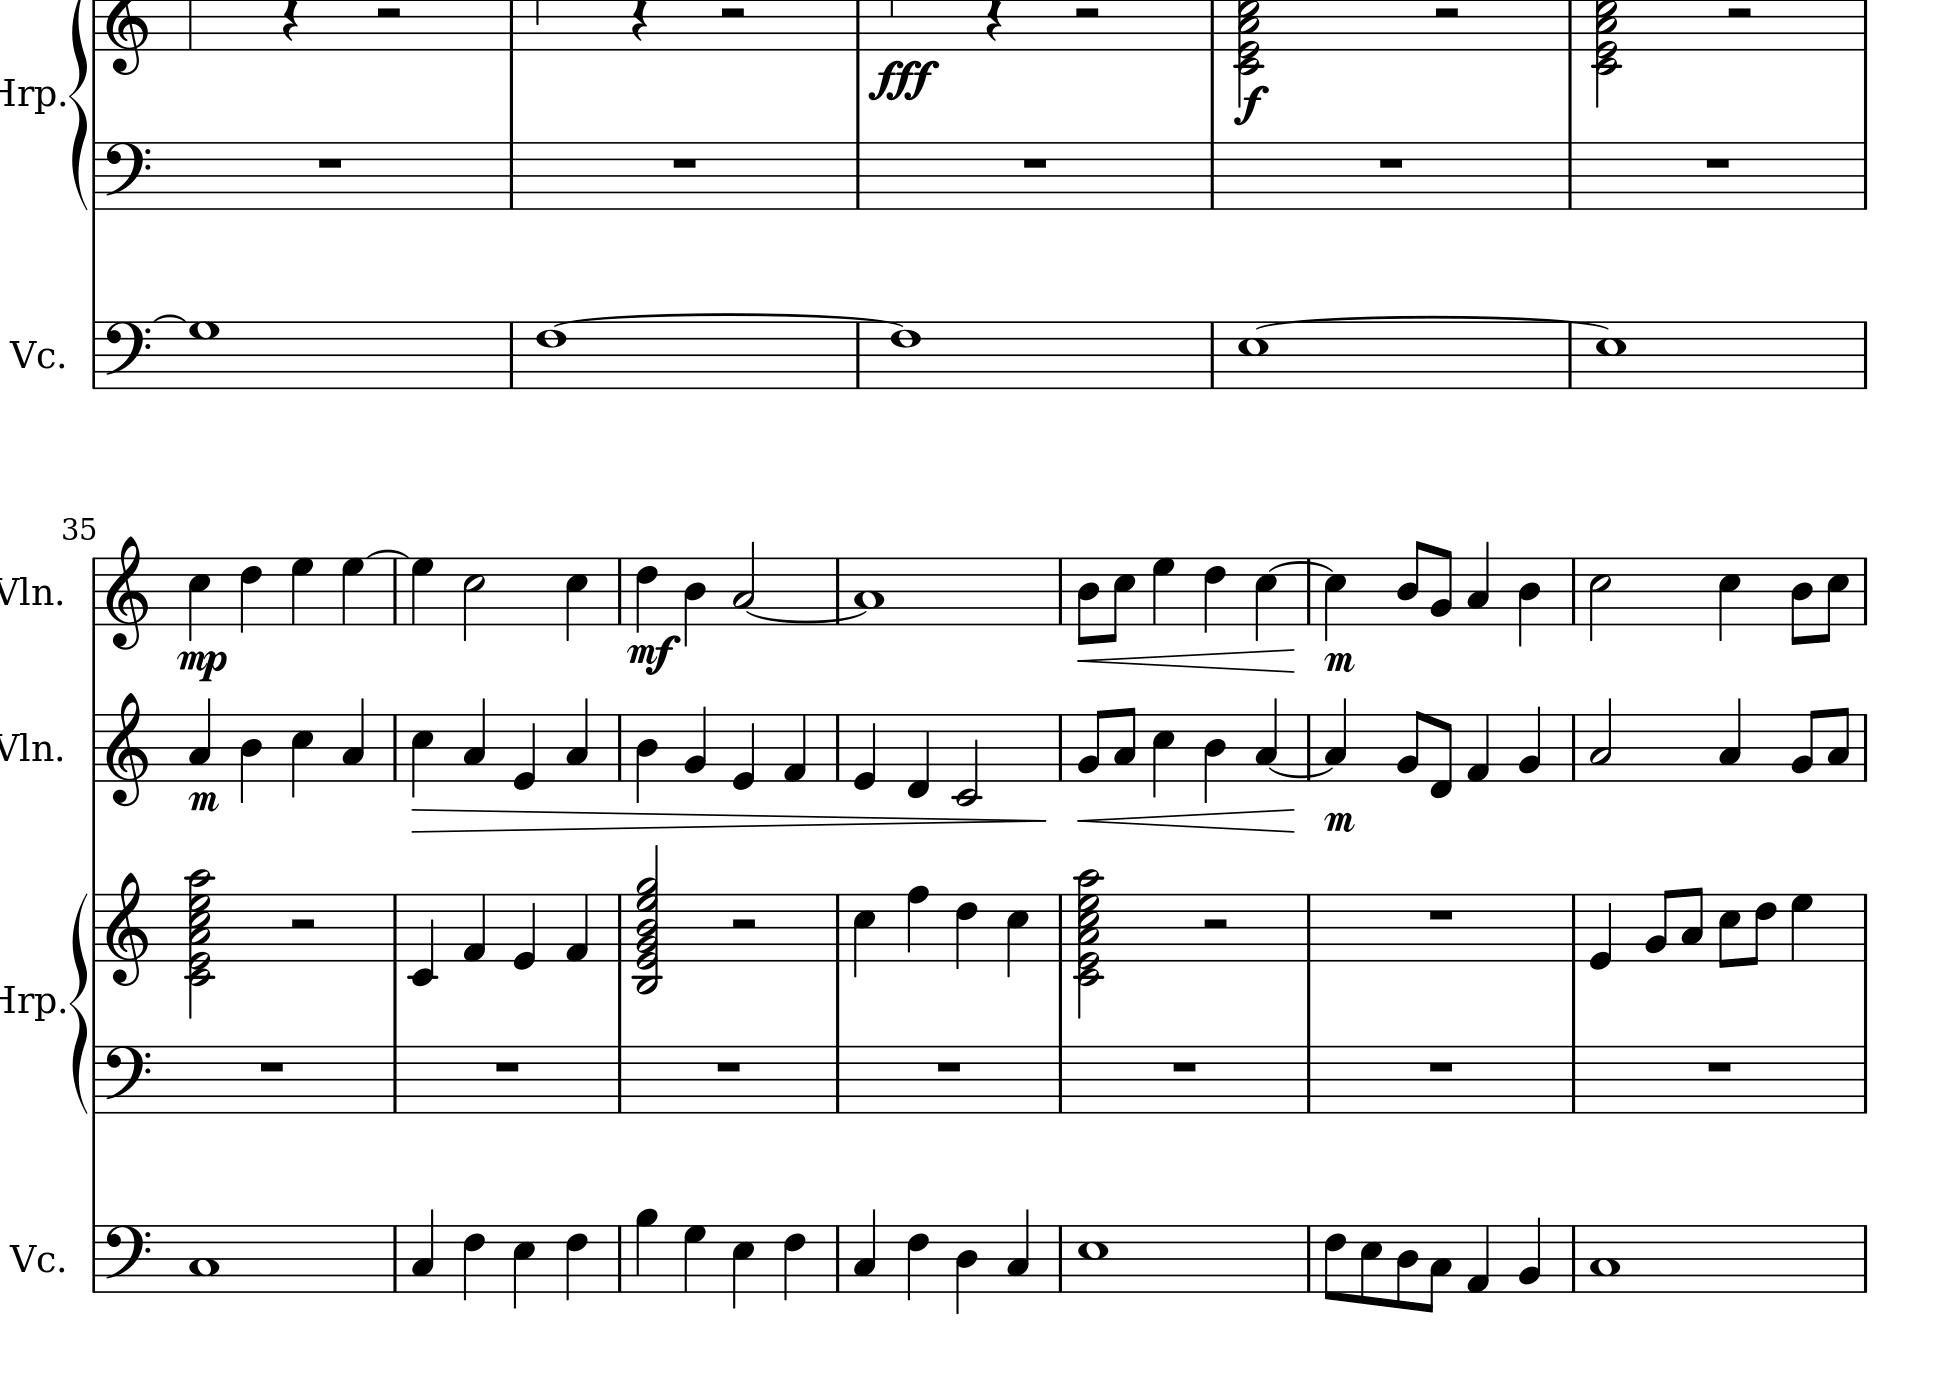1_3: (187, 1222, 220, 1293), (852, 553, 883, 625), (1588, 1222, 1620, 1293)
1_5: (1077, 1222, 1110, 1294), (1594, 319, 1627, 390), (1237, 318, 1269, 390)
1_6: (534, 319, 568, 390), (889, 319, 922, 390)
1_7: (187, 318, 220, 390)
2_-2: (952, 711, 981, 807)
2_3: (1587, 696, 1614, 781), (730, 538, 756, 625)
2_5: (460, 556, 484, 643), (1587, 556, 1611, 642)
3: (60, 514, 78, 541)
4_-1: (904, 711, 931, 799)
4_-2: (408, 891, 438, 987)
4_0: (511, 711, 538, 793), (730, 711, 757, 793), (850, 711, 877, 792), (511, 892, 537, 972), (1588, 891, 1614, 970)
4_1: (781, 711, 808, 783), (460, 891, 487, 961), (1465, 1222, 1491, 1294), (564, 892, 589, 961)
4_2: (1515, 705, 1543, 783), (681, 703, 708, 783), (1516, 1215, 1543, 1294)
4_3: (409, 1207, 436, 1293), (187, 694, 213, 780), (340, 696, 366, 781), (462, 696, 487, 781), (1254, 696, 1279, 781), (1324, 696, 1350, 781), (852, 1207, 877, 1293), (1465, 541, 1491, 625), (565, 694, 589, 781), (1719, 696, 1743, 781), (1006, 1207, 1030, 1291)
4_4: (633, 711, 658, 804), (954, 1222, 979, 1314), (1516, 556, 1542, 646), (682, 555, 706, 646), (238, 712, 262, 802), (1203, 712, 1227, 802)
4_5: (186, 553, 211, 643), (562, 555, 588, 643), (1005, 891, 1029, 981), (1323, 555, 1347, 643), (1717, 555, 1741, 643), (289, 709, 313, 798), (409, 711, 433, 799), (1152, 711, 1176, 799), (852, 891, 876, 979), (1254, 555, 1278, 642), (511, 1222, 535, 1309), (730, 1222, 754, 1309)
4_6: (954, 891, 979, 973), (1201, 555, 1227, 634), (564, 1222, 589, 1302), (906, 1222, 930, 1303), (238, 555, 262, 634), (634, 555, 658, 634), (462, 1222, 486, 1302), (781, 1222, 805, 1302)
4_7: (339, 555, 364, 627), (289, 556, 315, 627), (408, 555, 433, 625), (1150, 555, 1176, 625), (682, 1222, 706, 1293), (1789, 892, 1813, 961)
4_8: (904, 883, 930, 963)
4_9: (633, 1206, 658, 1293)
5: (78, 514, 97, 541)
8_-1: (1428, 712, 1455, 801)
8_1: (1464, 711, 1491, 783)
8_2: (1075, 706, 1107, 781), (1393, 708, 1425, 781), (1789, 706, 1819, 781), (1644, 886, 1674, 961), (1429, 546, 1453, 625)
8_3: (1423, 1222, 1452, 1314), (1827, 705, 1851, 783), (1680, 885, 1704, 963), (1113, 705, 1137, 781)
8_4: (1396, 538, 1428, 625), (1077, 556, 1101, 646), (1789, 556, 1813, 646), (1395, 1222, 1419, 1311)
8_5: (1819, 553, 1851, 643), (1107, 555, 1137, 645), (1357, 1222, 1383, 1306), (1716, 891, 1741, 970)
8_6: (1747, 891, 1779, 967), (1320, 1222, 1347, 1302)
Brace: (70, 889, 90, 1114)
Crescendo_hairpin: (408, 808, 1048, 835), (1080, 648, 1296, 676), (1077, 807, 1296, 832)
Fclef: (102, 318, 151, 391), (102, 1044, 151, 1116), (102, 139, 153, 208), (103, 1222, 151, 1294)
Gclef: (103, 532, 150, 652), (103, 690, 150, 808), (103, 870, 148, 987)
Hrp: (1, 75, 55, 117)
Rests1: (313, 153, 346, 172), (669, 154, 700, 172), (1375, 154, 1407, 172), (1020, 154, 1050, 172), (256, 1057, 286, 1075), (1702, 154, 1734, 171), (1426, 906, 1456, 922), (934, 1057, 964, 1074), (1170, 1057, 1200, 1074), (1426, 1057, 1456, 1074), (714, 1057, 742, 1074), (492, 1059, 522, 1074), (1704, 1059, 1734, 1074)
Rests2: (715, 3, 750, 24), (1071, 4, 1104, 25), (372, 3, 405, 22), (1431, 3, 1464, 22), (1723, 3, 1756, 22), (286, 913, 319, 933), (727, 915, 760, 934), (1200, 916, 1231, 933)
Rests4: (628, 1, 649, 46), (280, 1, 301, 45), (984, 1, 1005, 45)
Single_barline: (610, 556, 628, 624), (1203, 142, 1221, 208), (502, 321, 520, 387), (829, 556, 847, 622), (610, 714, 628, 778), (1561, 325, 1579, 388), (1204, 321, 1221, 388), (1857, 321, 1873, 388), (387, 894, 403, 961), (1053, 894, 1069, 961), (502, 142, 519, 208), (849, 142, 865, 208), (1561, 142, 1578, 208), (1857, 142, 1873, 208), (87, 321, 103, 387), (849, 322, 865, 388), (1566, 556, 1582, 622), (1053, 558, 1069, 624), (1302, 558, 1318, 624), (1300, 712, 1317, 778), (387, 714, 403, 780), (1300, 892, 1317, 958), (829, 894, 846, 960), (829, 1045, 846, 1111), (1300, 1045, 1317, 1111), (1300, 1225, 1317, 1291), (1857, 1225, 1873, 1291), (610, 1047, 627, 1111), (387, 1225, 403, 1290), (829, 1225, 846, 1290), (1053, 1225, 1069, 1290), (612, 1225, 628, 1290), (1858, 556, 1873, 625), (1857, 1045, 1872, 1114), (1053, 712, 1068, 780), (829, 714, 844, 781), (1566, 892, 1581, 960), (612, 894, 627, 961), (1566, 1045, 1581, 1113), (387, 1045, 402, 1113), (388, 559, 403, 624), (1053, 1047, 1068, 1111), (1566, 1225, 1581, 1290), (87, 556, 100, 625), (1858, 712, 1872, 781), (88, 141, 102, 208), (87, 714, 100, 781), (88, 1045, 102, 1113), (1567, 714, 1581, 780), (87, 1225, 100, 1291), (1860, 892, 1872, 964), (88, 892, 100, 960), (1563, 1, 1579, 49), (1857, 1, 1873, 49), (1206, 1, 1221, 49)
Slur: (745, 610, 867, 622), (1269, 559, 1335, 571), (1269, 766, 1333, 777), (366, 547, 406, 559), (151, 313, 187, 322)
Vc: (3, 331, 61, 370), (7, 1242, 58, 1278)
Vln: (1, 571, 55, 612), (1, 727, 54, 766)
f: (1234, 82, 1270, 124)
fff: (868, 58, 940, 103)
m: (1320, 807, 1357, 835)
mf: (625, 634, 684, 676)
mp: (175, 646, 229, 682), (187, 787, 220, 814), (1323, 648, 1357, 673)
